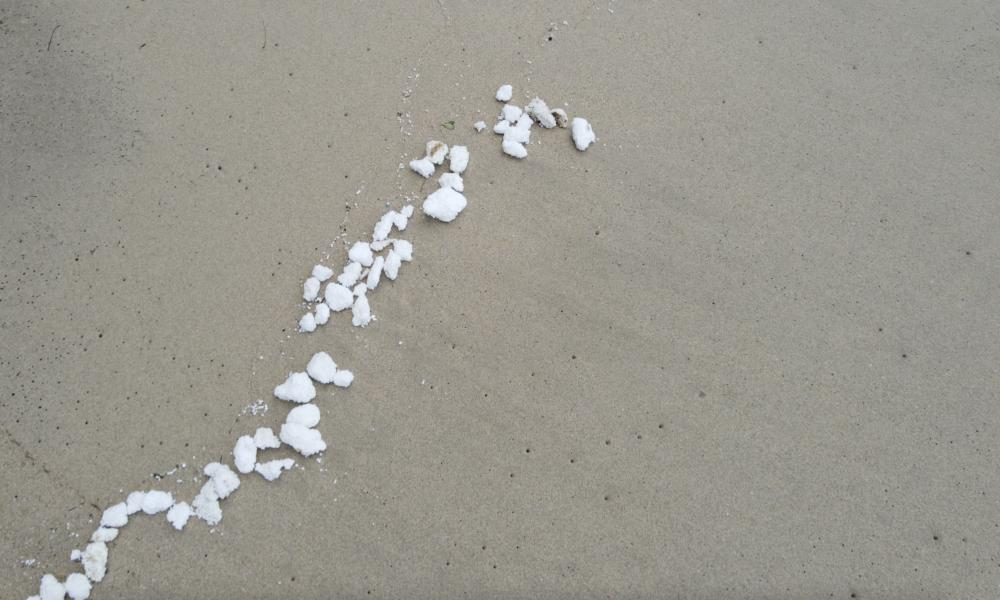styrofoam: (207, 422, 275, 524), (100, 482, 192, 538), (41, 541, 106, 597), (375, 208, 409, 282), (280, 401, 325, 456), (495, 116, 533, 162), (422, 185, 466, 222), (428, 133, 467, 172), (274, 370, 315, 403), (325, 280, 354, 310), (572, 114, 593, 151)
